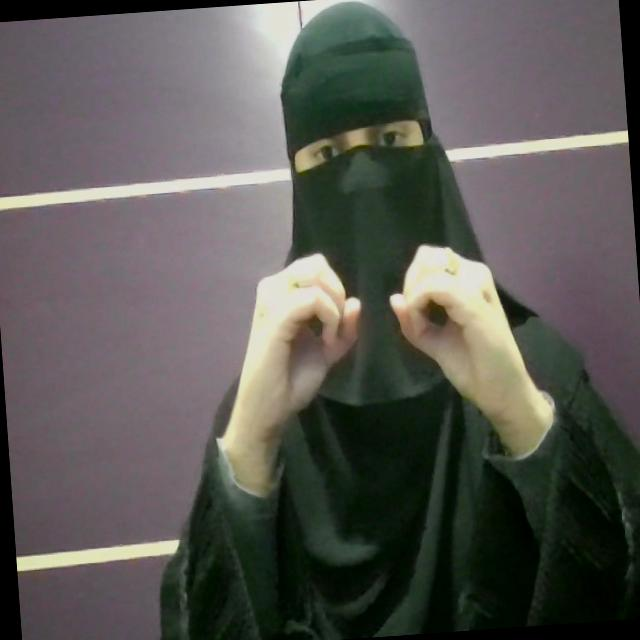analysis: (215, 228, 539, 457)
